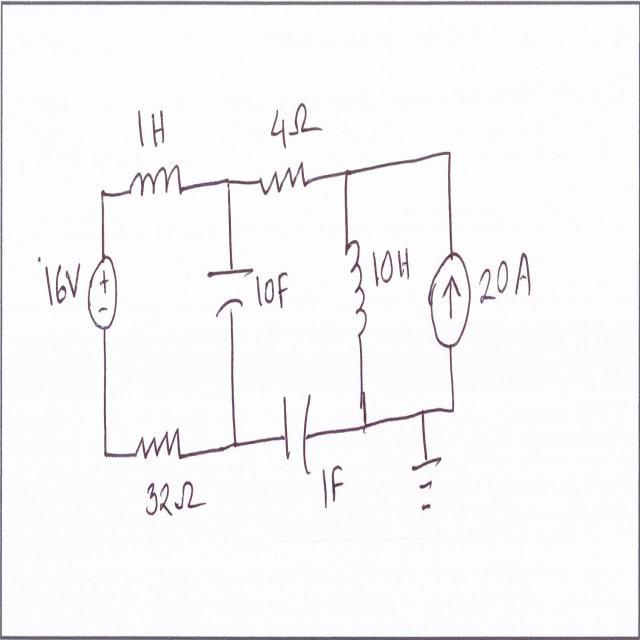capacitor: (282, 380, 313, 485), (207, 262, 254, 331)
current_source: (427, 246, 473, 358)
ground: (409, 444, 443, 516)
inductor: (122, 155, 185, 207), (341, 230, 370, 338)
resistor: (256, 162, 308, 208), (133, 426, 186, 469)
voltage_source: (84, 250, 121, 342)
